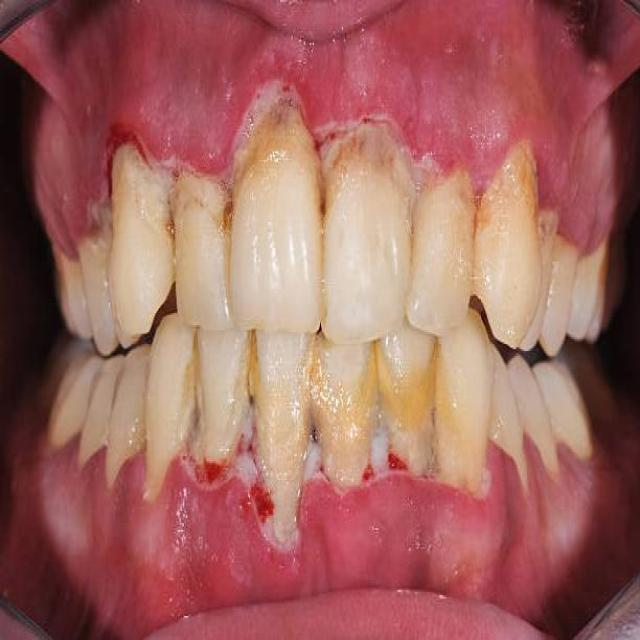Gingivitis: (310, 487, 481, 588), (169, 477, 269, 595), (150, 64, 234, 156), (296, 56, 366, 145)
